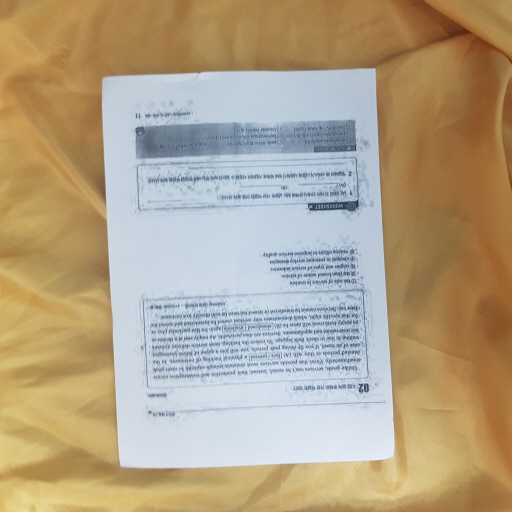Paper_2: (91, 56, 406, 472)
